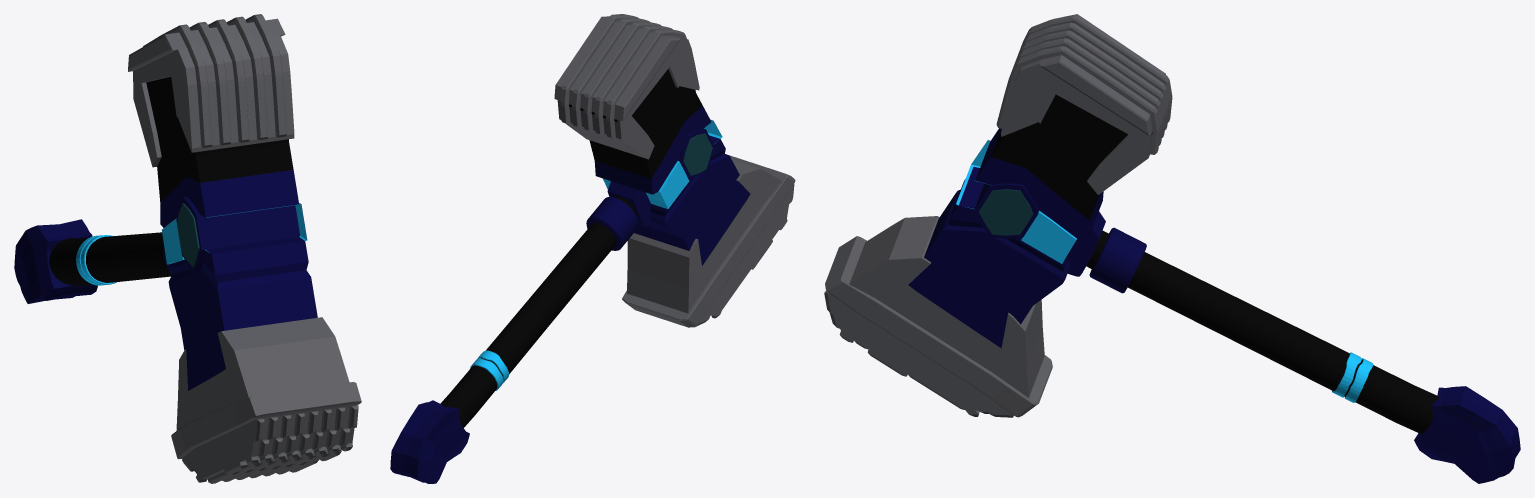
The model's file is sc_fi_melee_weapon_sci_fi_hammer.glb.
The picture shows the model from 3 angles, left to right: view 1: azimuth 30°, elevation 25°; view 2: azimuth 150°, elevation 25°; view 3: azimuth 270°, elevation 25°; orthographic projection. The views are drawn at different scales.
Parts seen in each view (by area): view 1: Cube.053; view 2: Cube.053; view 3: Cube.053.
Part boxes in pixels (<box>): Cube.053: <box>14,14,361,483</box>; Cube.053: <box>390,14,795,483</box>; Cube.053: <box>824,14,1520,483</box>.
Bounding box in the file's own units: 1.68 × 4.21 × 6.36.
